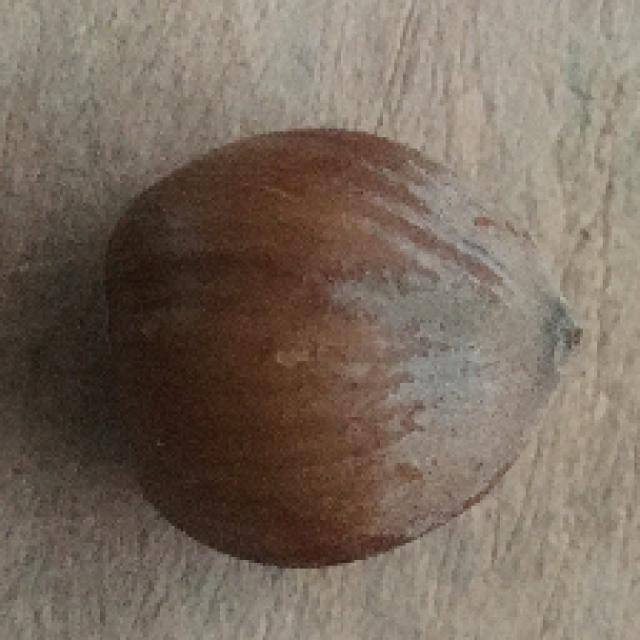qualityHazelnut: (84, 132, 586, 566)
